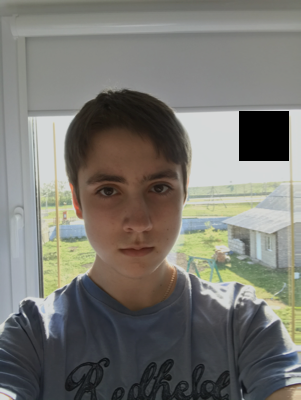without_mask: (81, 163, 184, 279)
